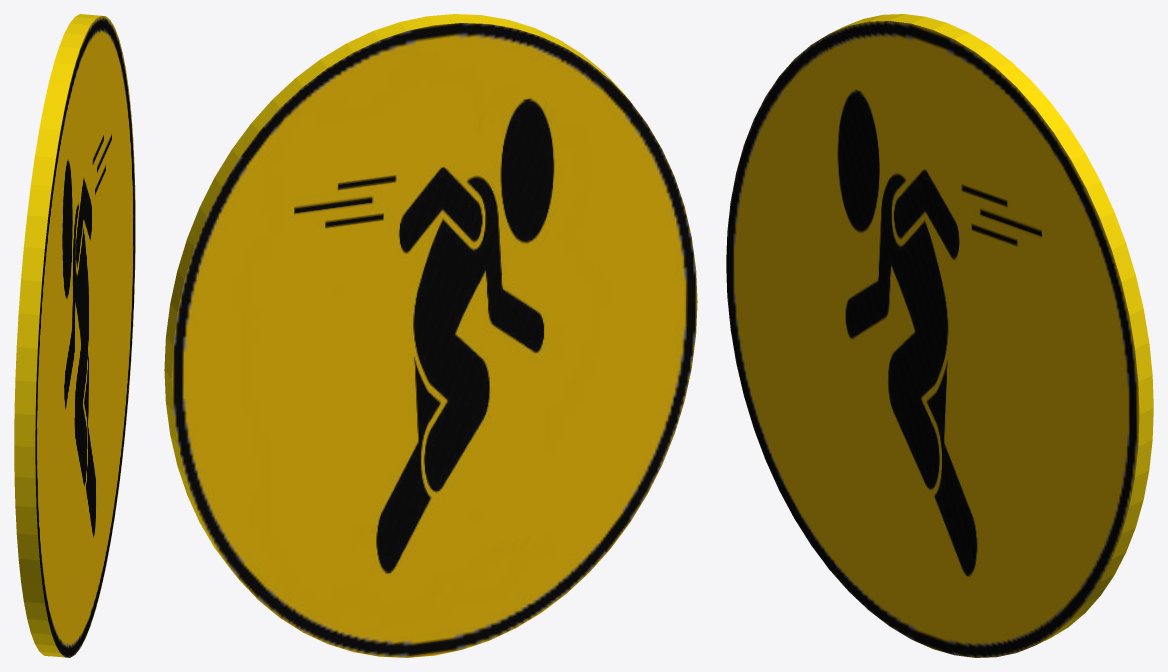
Rendered from coin10.obj.
3 renders of one model, left to right at view 1: azimuth 30°, elevation 25°; view 2: azimuth 150°, elevation 25°; view 3: azimuth 270°, elevation 25°, orthographic. The views are drawn at different scales.
Parts seen in each view (by area): view 1: Circle.005, Circle.006; view 2: Circle.001_Circle.000, Circle.006; view 3: Circle.005, Circle.006.
Boxes of the visible parts, x1=… form: Circle.005: x1=35, y1=16, x2=135, y2=657; Circle.006: x1=14, y1=14, x2=104, y2=657; Circle.001_Circle.000: x1=171, y1=23, x2=697, y2=657; Circle.006: x1=164, y1=14, x2=697, y2=657; Circle.005: x1=726, y1=21, x2=1139, y2=657; Circle.006: x1=810, y1=14, x2=1153, y2=643.
Bounding box in the file's own units: 2.74 × 5 × 3.13.
3 materials, 3 textured.
